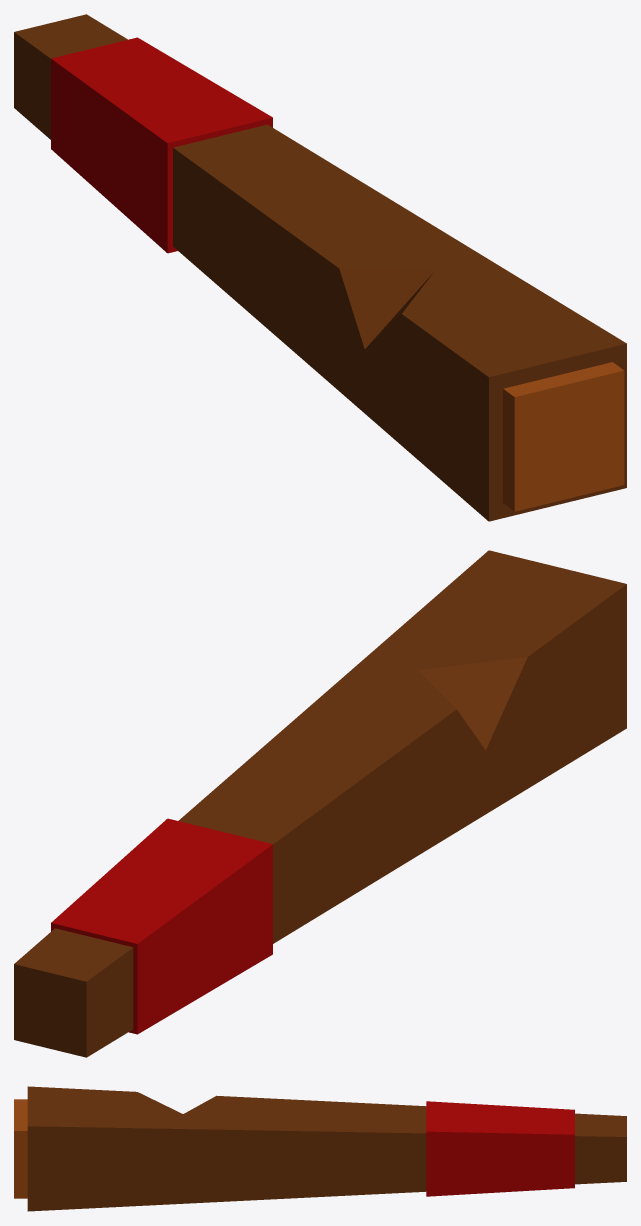
Rendered from Club 01.FBX.
3 views of the same model, one above another, from view 1: azimuth 30°, elevation 25°; view 2: azimuth 150°, elevation 25°; view 3: azimuth 270°, elevation 25° (orthographic). The views are drawn at different scales.
Parts seen in each view (by area): view 1: Club 01; view 2: Club 01; view 3: Club 01.
Part boxes in pixels (left/top/right/bottom): Club 01: left=14, top=14, right=626, bottom=521; Club 01: left=14, top=550, right=626, bottom=1057; Club 01: left=14, top=1086, right=626, bottom=1211.
Size of the model in its own units: 8.97 by 8.96 by 58.4.
